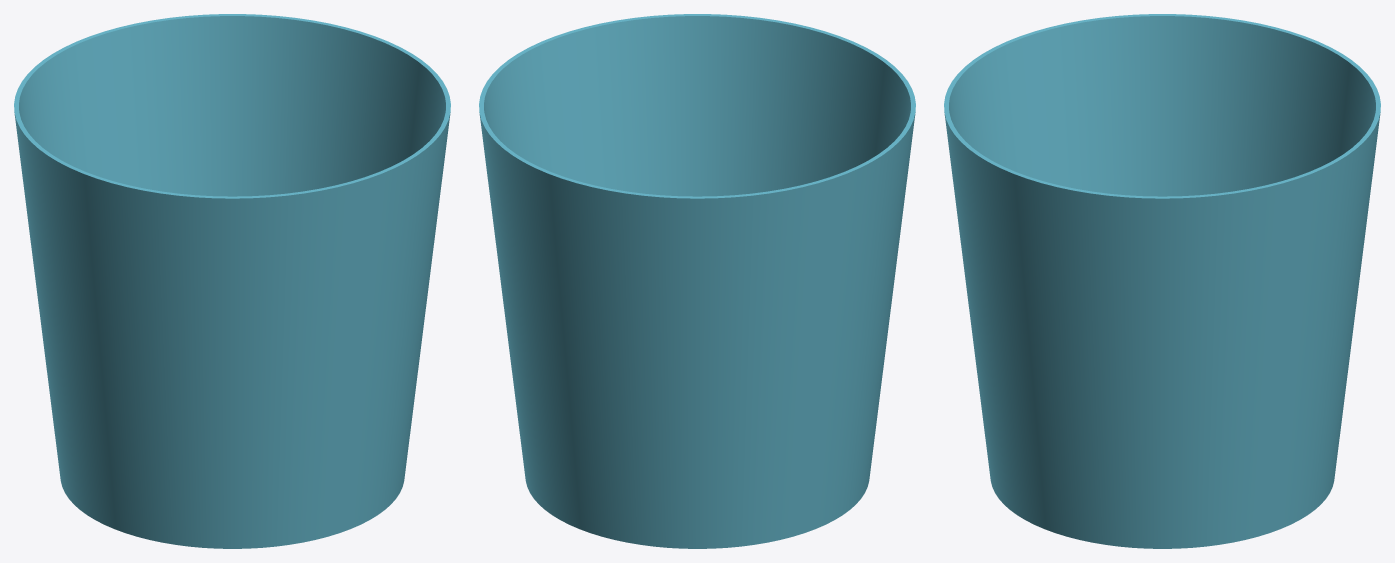
File: bucket.obj
The picture shows the model from 3 angles, left to right: view 1: azimuth 30°, elevation 25°; view 2: azimuth 150°, elevation 25°; view 3: azimuth 270°, elevation 25°; orthographic projection.
Parts seen in each view (by area): view 1: bucket_mesh_mesh0.003; view 2: bucket_mesh_mesh0.003; view 3: bucket_mesh_mesh0.003.
Part boxes in pixels (x1=…): bucket_mesh_mesh0.003: x1=14, y1=14, x2=450, y2=548; bucket_mesh_mesh0.003: x1=479, y1=14, x2=915, y2=548; bucket_mesh_mesh0.003: x1=944, y1=14, x2=1380, y2=548.
Bounding box in the file's own units: 0.2729 × 0.255 × 0.2729.
